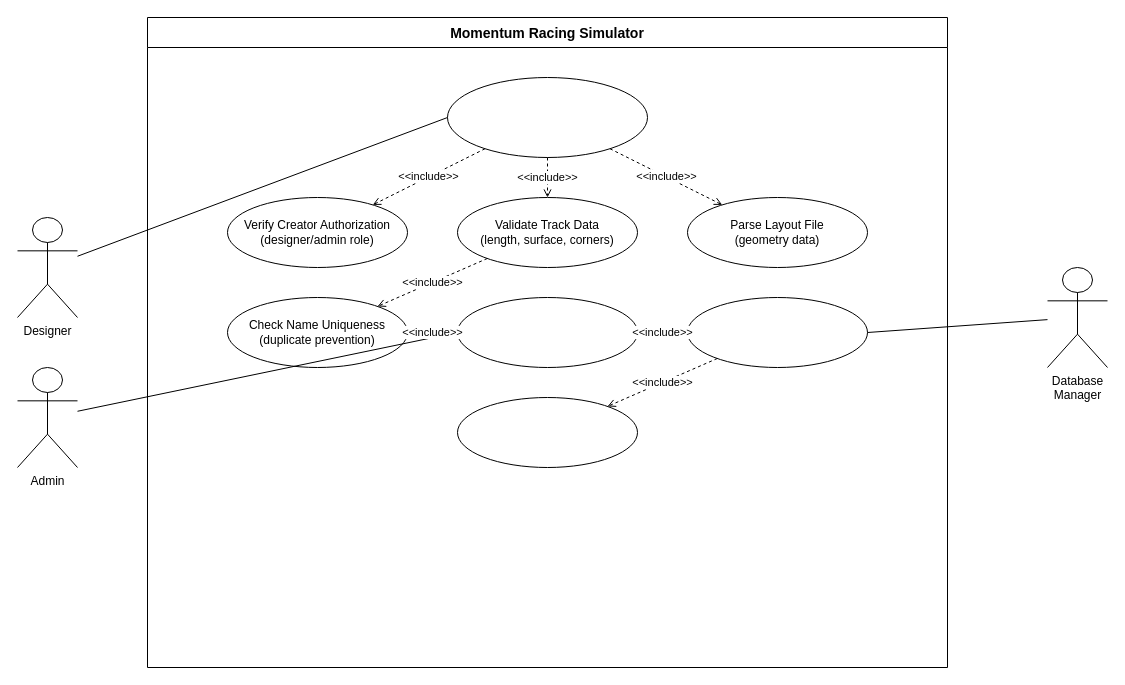
This 1125x685 diagram has some shape labels left out. Here are the shapes that lost their labels. From the top down, the centre of each, then its label:
(547,117): Create Custom Track
(547,332): Generate Track Metadata (IMA grading, characteristics)
(777,332): Insert Track Record (tracks table)
(547,432): Return Created Track (201 Created with ID)
